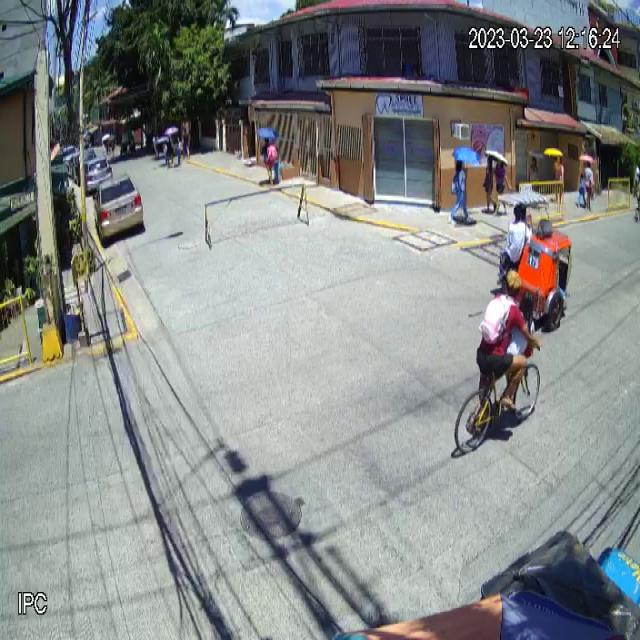Tricycle: (496, 191, 571, 332)
